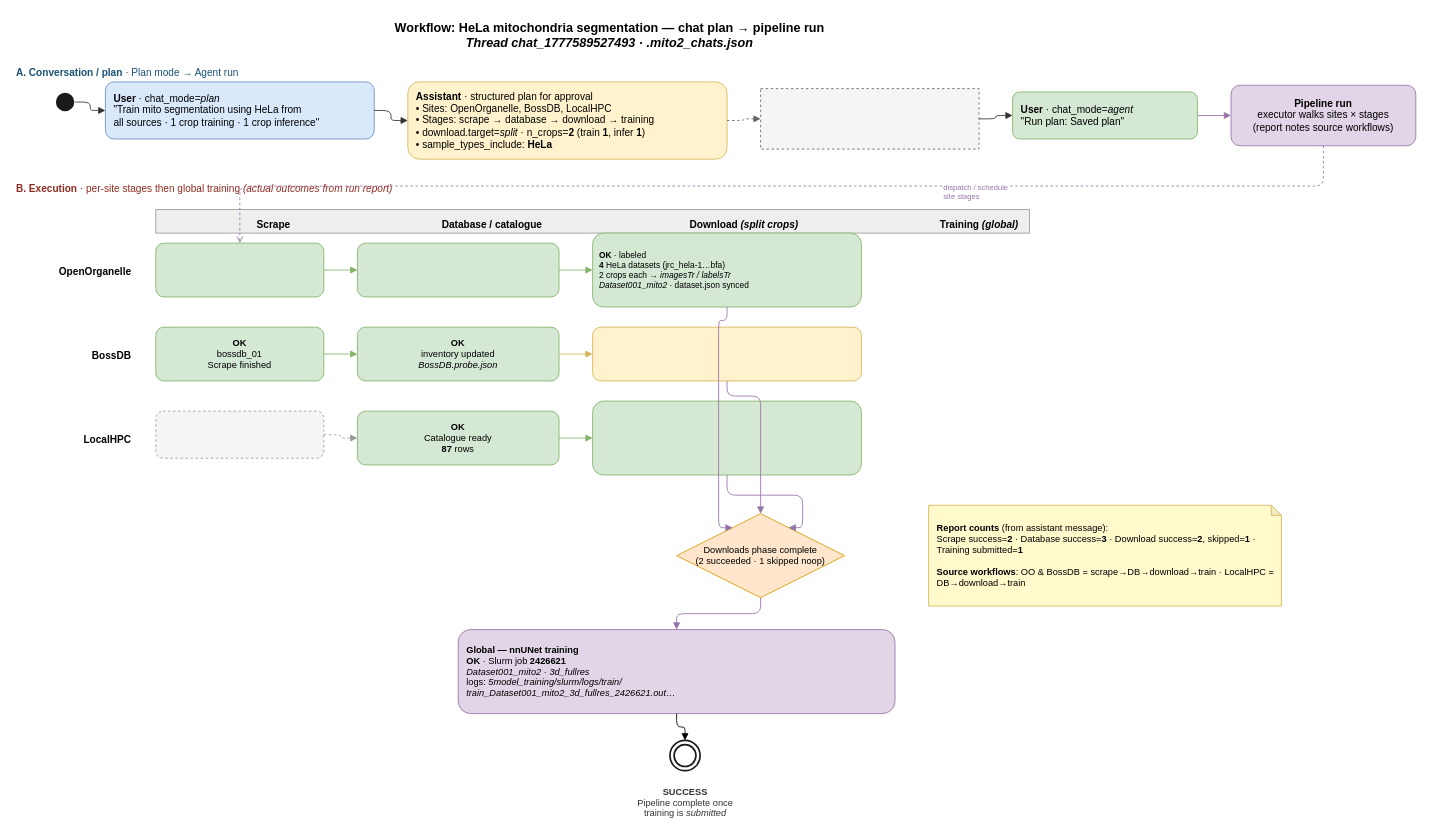
Image size: 1431x838. Some labels were removed from this diagram. Here are the shapes that lost their labels. From the top down, the centre of each, then its label:
point 869,118: Plan persisted saved_pipeline_plans · id plan_1777589625906 "Saved plan"
point 239,269: OK openorganelle_01 Scrape finished
point 458,269: OK inventory updated OpenOrganelle.probe.json
point 726,353: OK but noop Skipped — no datasets matched HeLa / filter plan
point 239,434: Not in workflow (report: DB → DL → train)
point 726,437: OK 3 catalogue pairs train+infer crops → imagesTr/labelsTr and imagesTs/labelsTs
